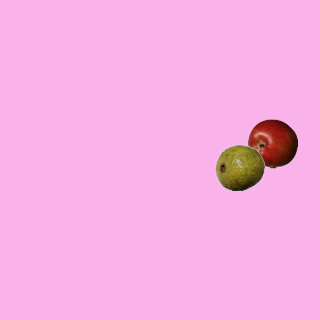Apple Braeburn: (247, 118, 297, 168)
Guava: (214, 142, 264, 192)
